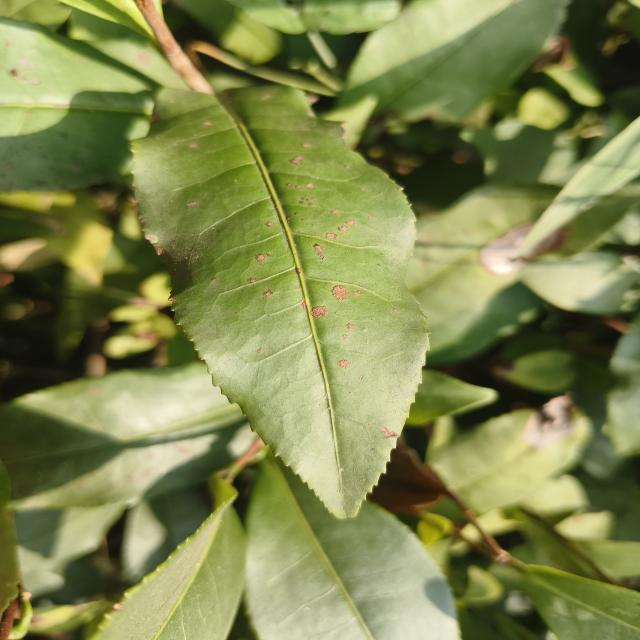Leaf: (133, 87, 428, 517), (245, 457, 459, 640), (0, 362, 247, 509), (340, 0, 568, 122), (0, 18, 155, 191), (406, 185, 551, 364), (92, 483, 246, 640), (427, 396, 591, 512), (521, 565, 640, 640), (406, 369, 498, 425)
